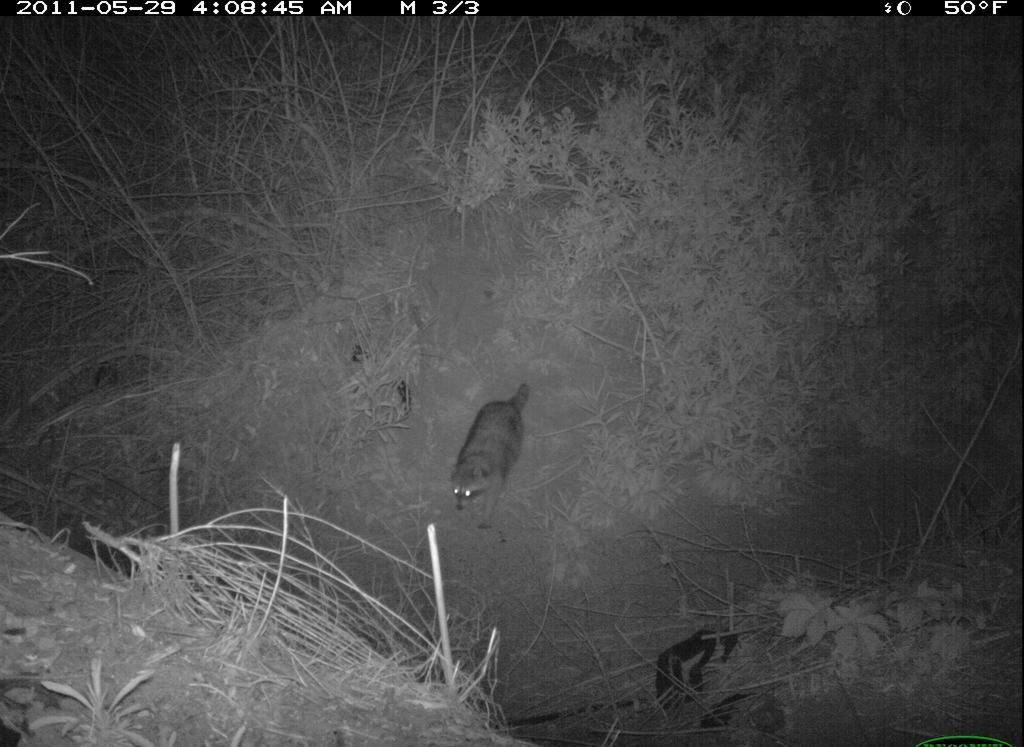raccoon: (450, 383, 552, 545)
